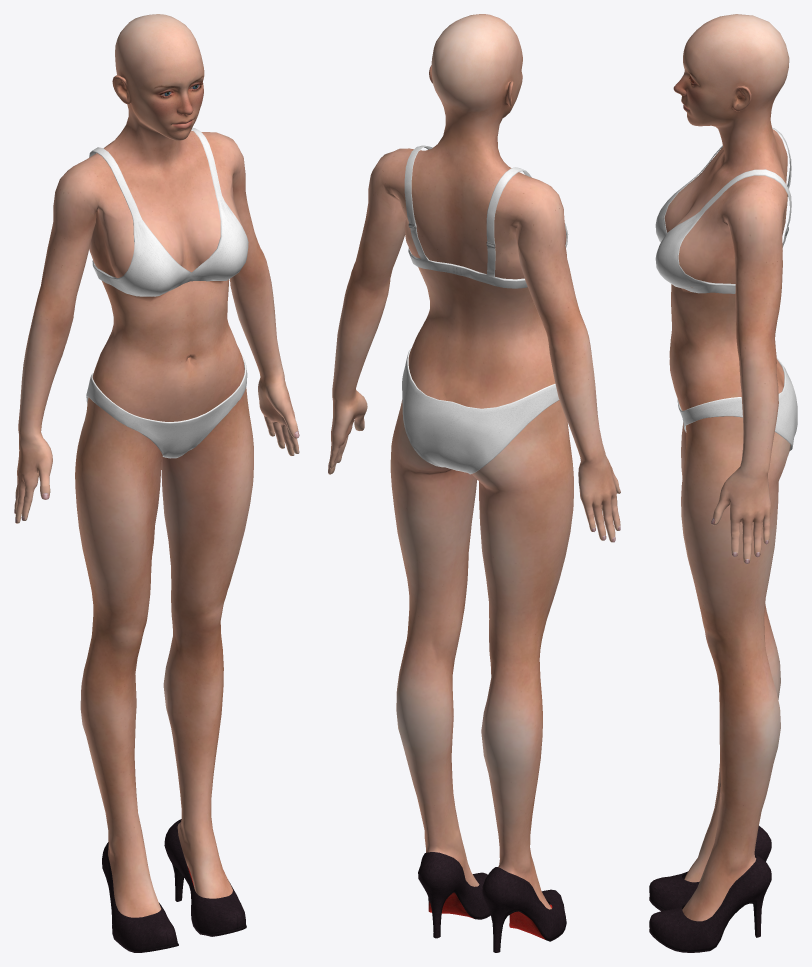
File: womanBodyTiptoe.obj
3 views of the same model, side by side, from view 1: azimuth 30°, elevation 25°; view 2: azimuth 150°, elevation 25°; view 3: azimuth 270°, elevation 25° (orthographic). The views are drawn at different scales.
Parts seen in each view (by area): view 1: CC_Base_Body, Bra, High-Heels, Underwear Bottoms; view 2: CC_Base_Body, Underwear Bottoms, High-Heels, Bra; view 3: CC_Base_Body, High-Heels, Bra, Underwear Bottoms.
Part boxes in pixels (x1,y1,x2,y2): CC_Base_Body: (14, 14, 299, 917); Bra: (89, 127, 248, 296); High-Heels: (102, 819, 246, 952); Underwear Bottoms: (86, 356, 247, 458); CC_Base_Body: (328, 14, 620, 909); Underwear Bottoms: (402, 348, 559, 474); High-Heels: (418, 852, 566, 952); Bra: (404, 145, 568, 288); CC_Base_Body: (664, 14, 790, 921); High-Heels: (649, 826, 771, 952); Bra: (655, 127, 791, 293); Underwear Bottoms: (677, 357, 797, 450).
Bounding box in the file's own units: 61.34 × 189 × 28.06.
